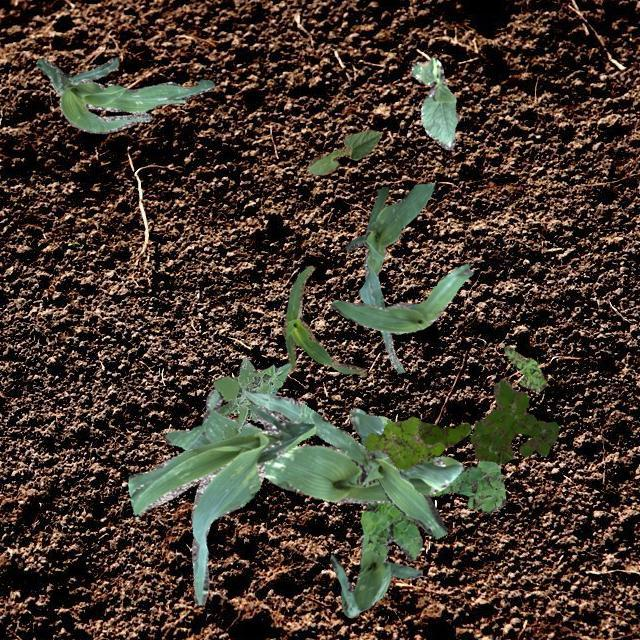crop: (126, 404, 314, 604), (165, 388, 462, 502), (244, 390, 446, 538), (345, 182, 433, 372), (35, 56, 214, 132), (331, 262, 472, 332), (282, 264, 366, 376), (329, 530, 422, 616), (410, 56, 458, 148), (306, 128, 380, 174)
weed: (360, 460, 504, 560), (468, 378, 558, 462), (212, 356, 290, 438), (364, 416, 444, 468), (504, 344, 546, 390), (416, 421, 469, 445)
